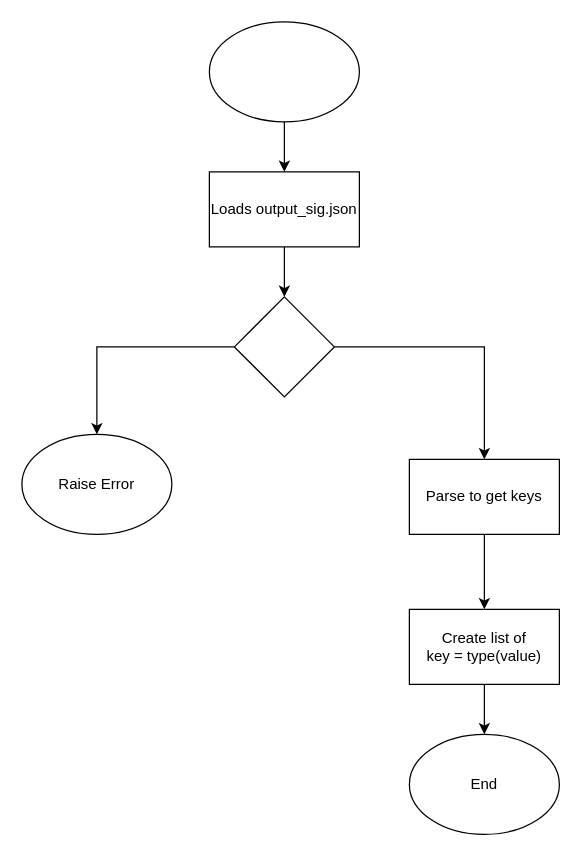
This 581x856 diagram has some shape labels left out. Each missing label, with the centre of its shape:
Found Json?: the point at 283,346
Output JSON Signature: the point at 283,71
